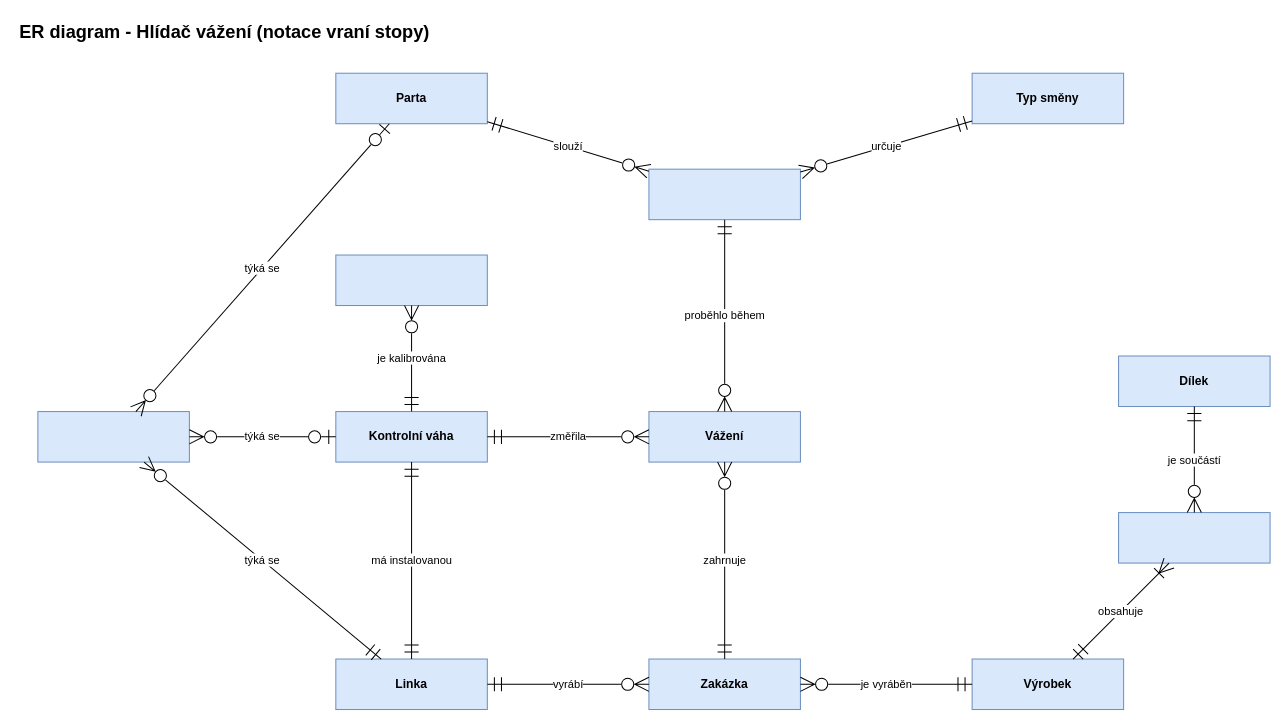
Some shapes in this 1288 by 727 pixel diagram are drawn without their labels. Here are the shapes that lost their labels. From the top down, the centre of each, then its label:
point (724, 194): Směna
point (411, 280): Kalibrace
point (113, 436): Upozornění
point (1194, 537): Složení
